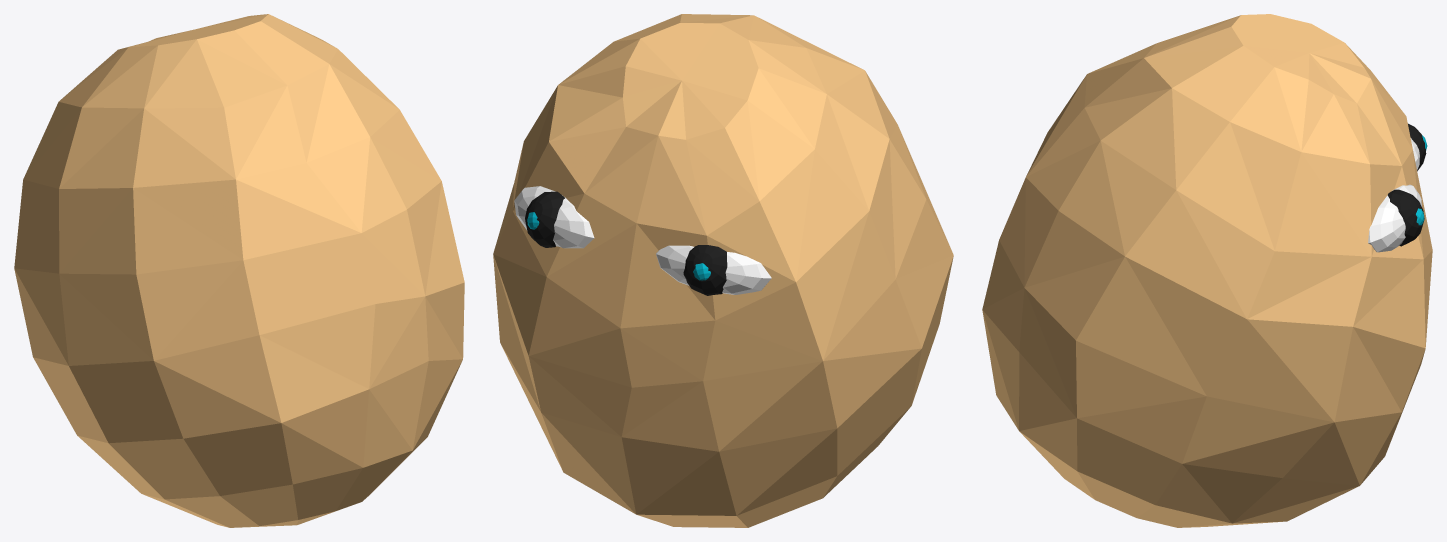
The model's file is Head_Dillan.fbx.
3 renders of one model, left to right at view 1: azimuth 30°, elevation 25°; view 2: azimuth 150°, elevation 25°; view 3: azimuth 270°, elevation 25°, orthographic. The views are drawn at different scales.
Visible parts, largest first — view 1: mesh_321089827; view 2: mesh_321089827, mesh_1306118906, mesh_1753423139, mesh_1768623424, mesh_156258311; view 3: mesh_321089827, mesh_1753423139, mesh_156258311.
Part boxes in pixels (x1=…): mesh_321089827: x1=14, y1=14, x2=464, y2=527; mesh_321089827: x1=493, y1=14, x2=953, y2=527; mesh_1306118906: x1=656, y1=245, x2=771, y2=294; mesh_1753423139: x1=514, y1=186, x2=594, y2=248; mesh_1768623424: x1=683, y1=245, x2=727, y2=295; mesh_156258311: x1=525, y1=191, x2=564, y2=247; mesh_321089827: x1=982, y1=14, x2=1432, y2=527; mesh_1753423139: x1=1368, y1=184, x2=1421, y2=252; mesh_156258311: x1=1387, y1=189, x2=1424, y2=246.
Size of the model in its own units: 29.99 by 36.71 by 31.
